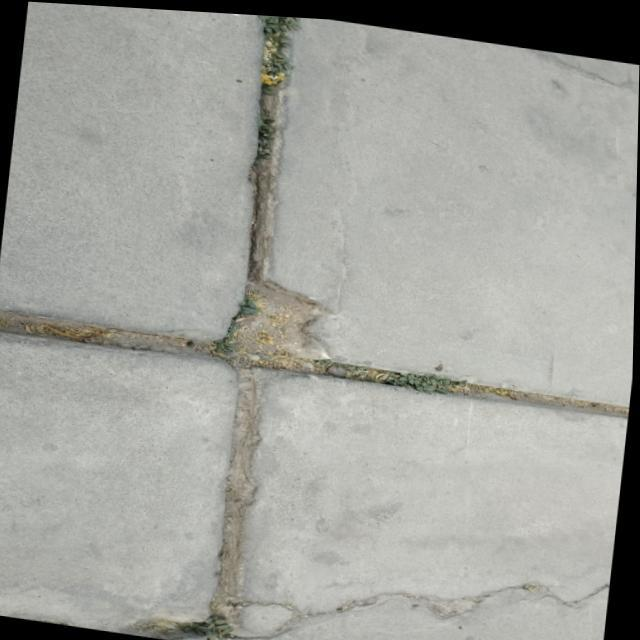hole: (199, 272, 332, 402)
